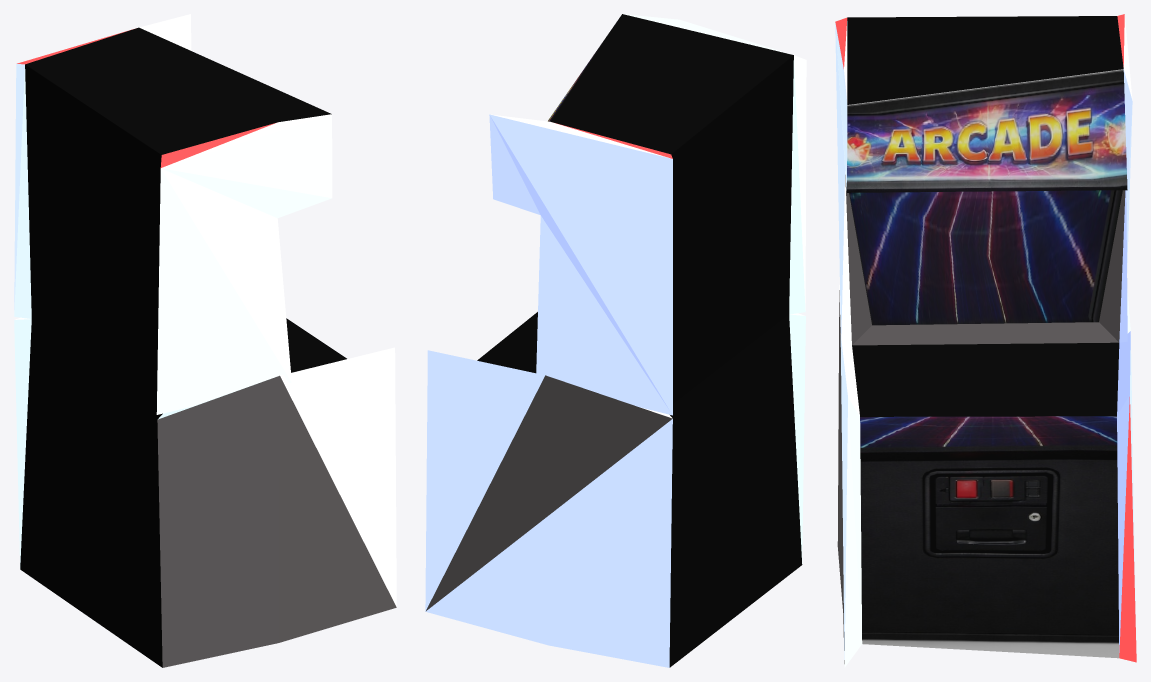
File: brokenmachine2.fbx
3 renders of one model, left to right at view 1: azimuth 30°, elevation 25°; view 2: azimuth 150°, elevation 25°; view 3: azimuth 270°, elevation 25°, orthographic. The views are drawn at different scales.
Parts seen in each view (by area): view 1: Side.001; view 2: Side.001; view 3: Side.001.
Boxes of the visible parts, left/top/right/bottom form: Side.001: left=14, top=14, right=396, bottom=667; Side.001: left=425, top=14, right=806, bottom=667; Side.001: left=835, top=14, right=1136, bottom=667.
Size of the model in its own units: 234 by 470 by 236.
